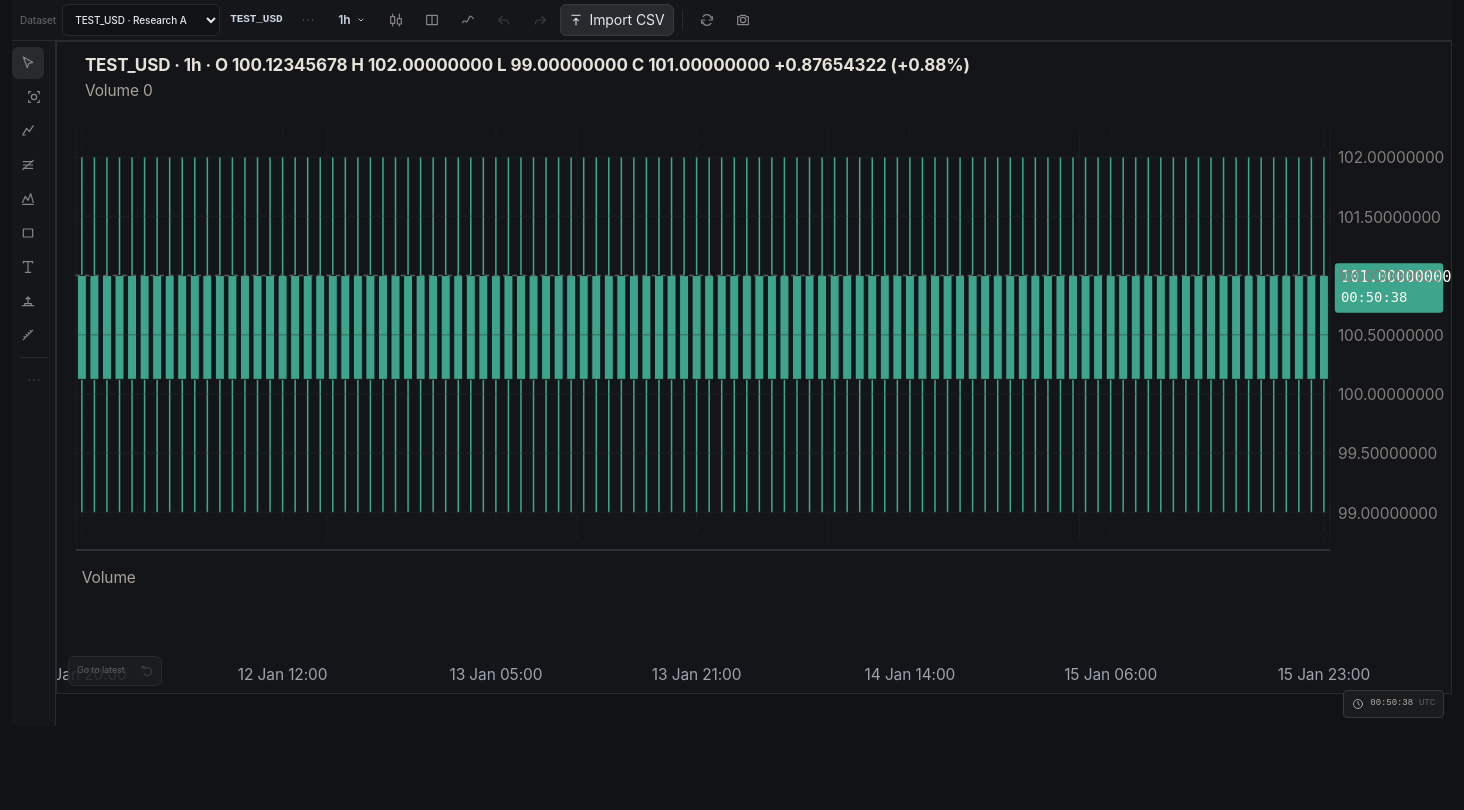
PB-006 private market UI (API contract mocks) › PB-031 switches only to compatible higher display intervals and honest chart types
This screenshot has width=1464, height=810.
Click the heading named "Timeframe": (352, 20) [338,12,367,27]
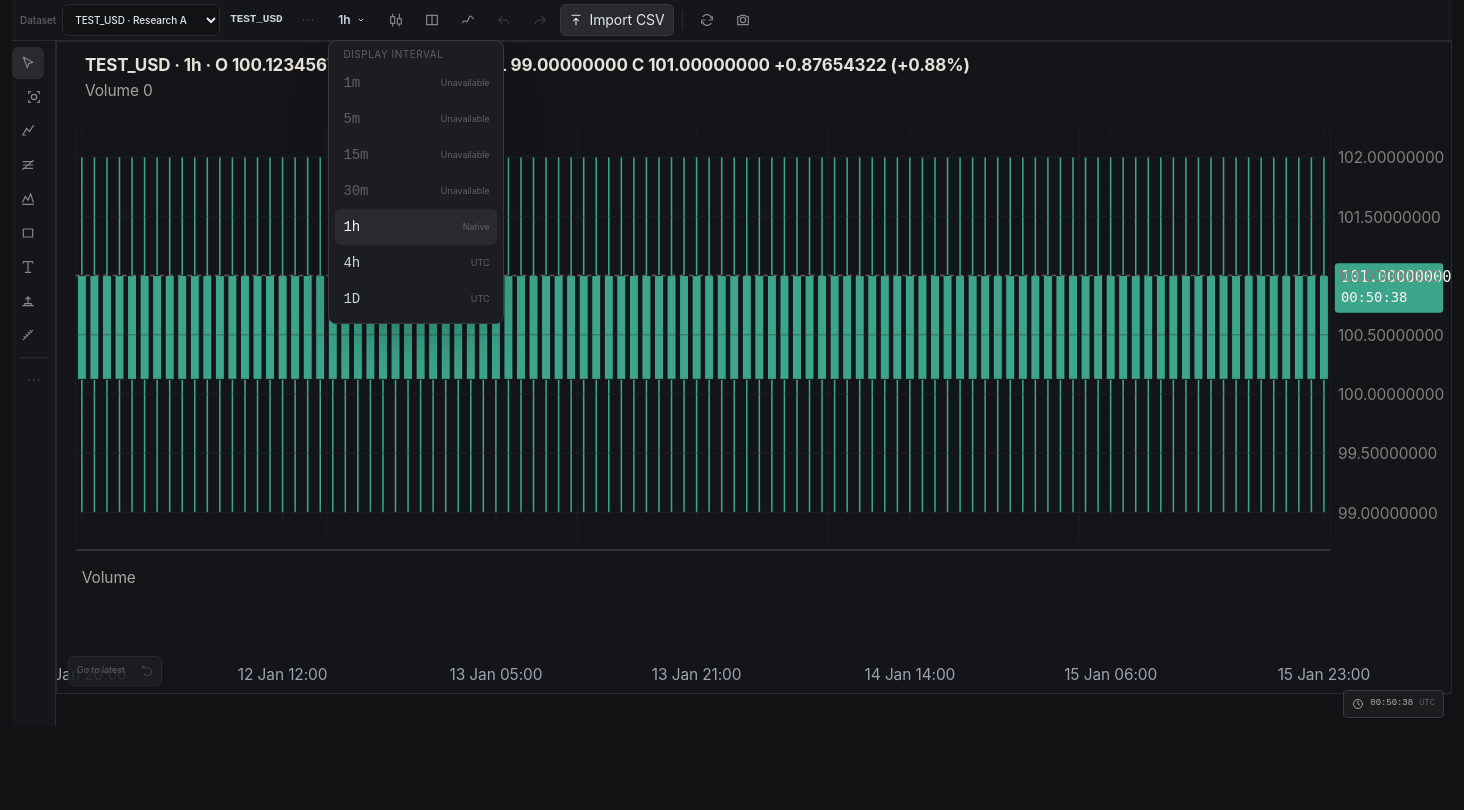
Now the button "15m Unavailable" is disabled, box [336,137,498,173]
Click the button "4h UTC": (416, 263) [336,245,498,281]
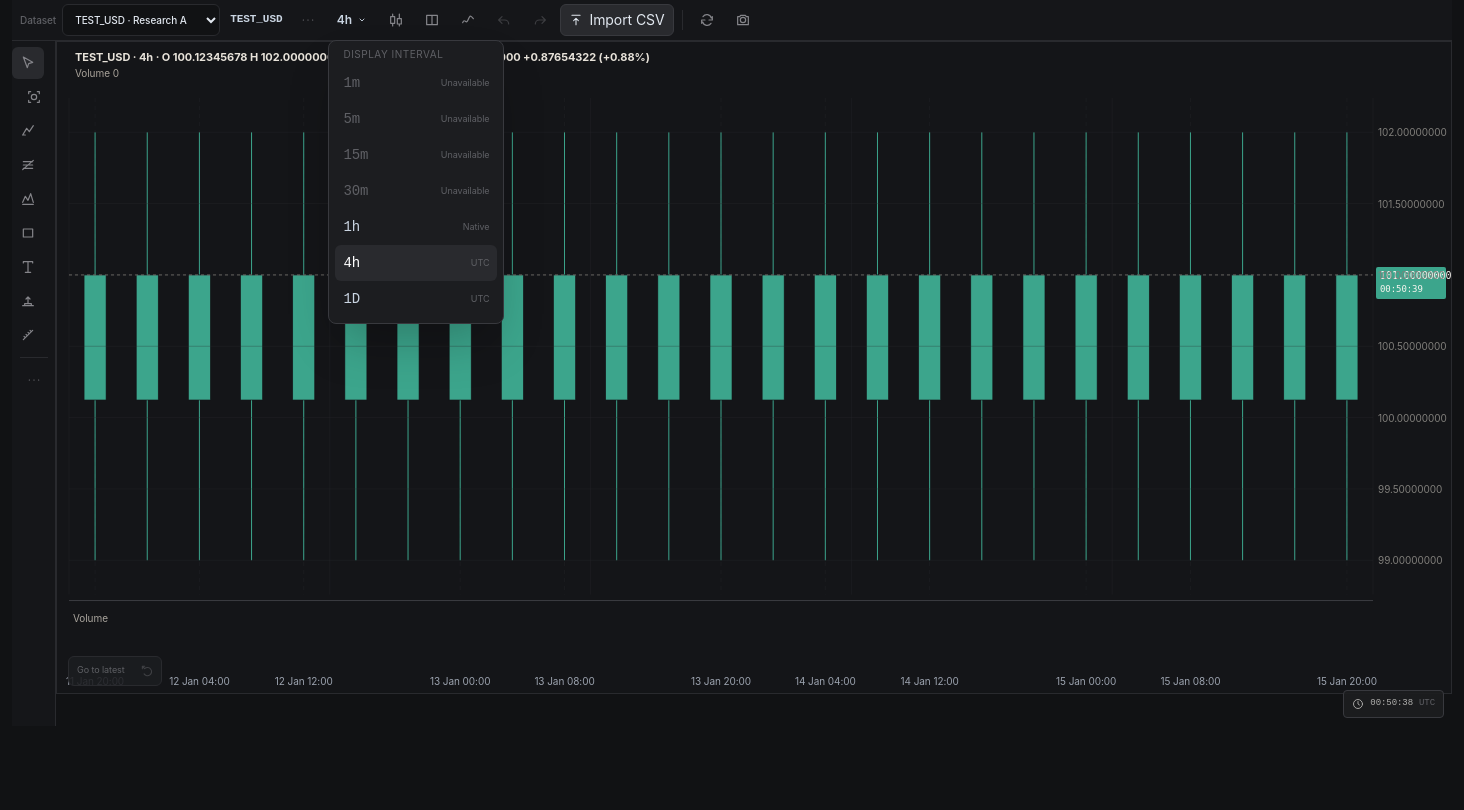
Now the picture named "25 candles in UTC" is shown
Click the heading named "Chart type": (396, 20) [388,12,404,28]
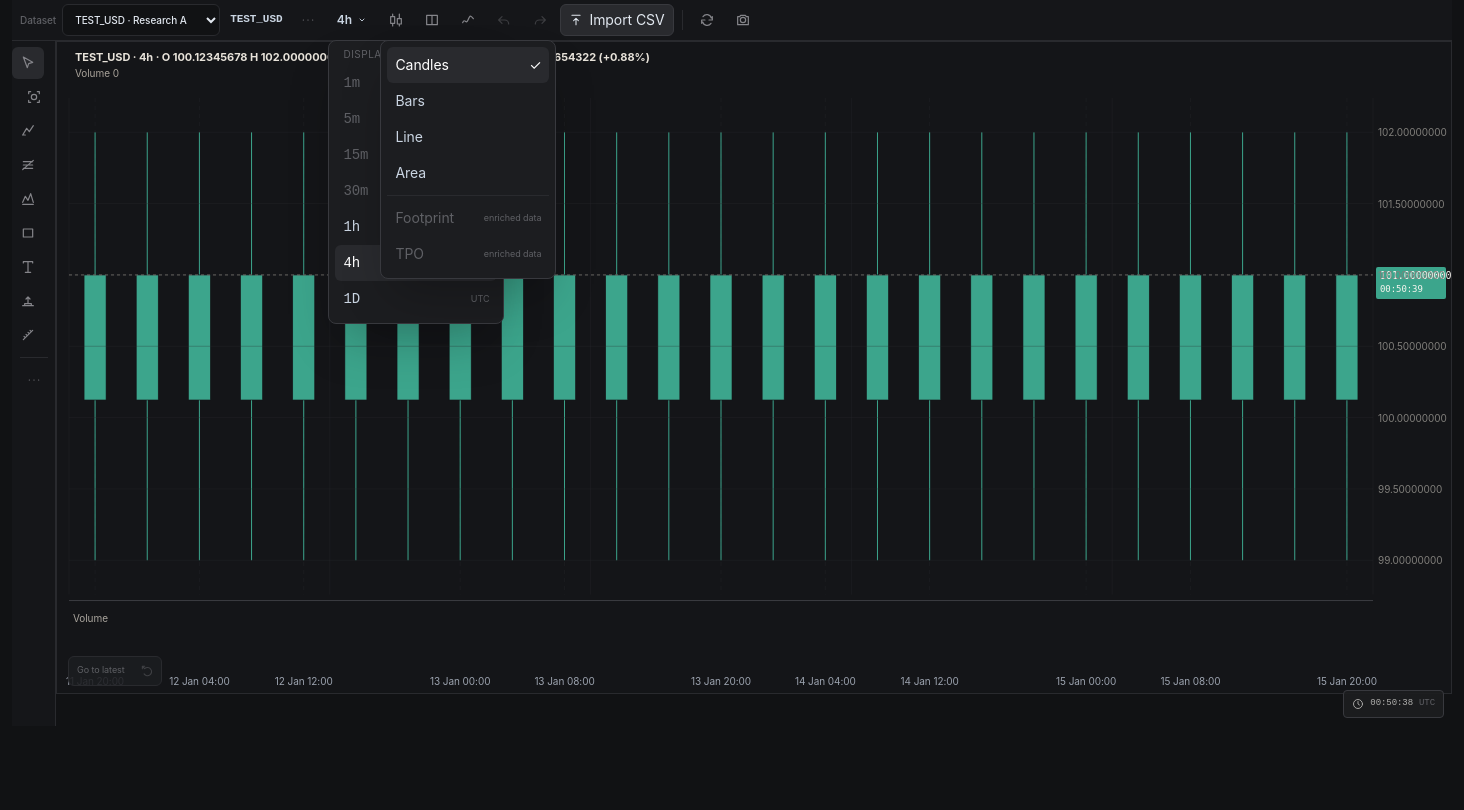
Click the button "Bars": (468, 101) [388,83,550,119]
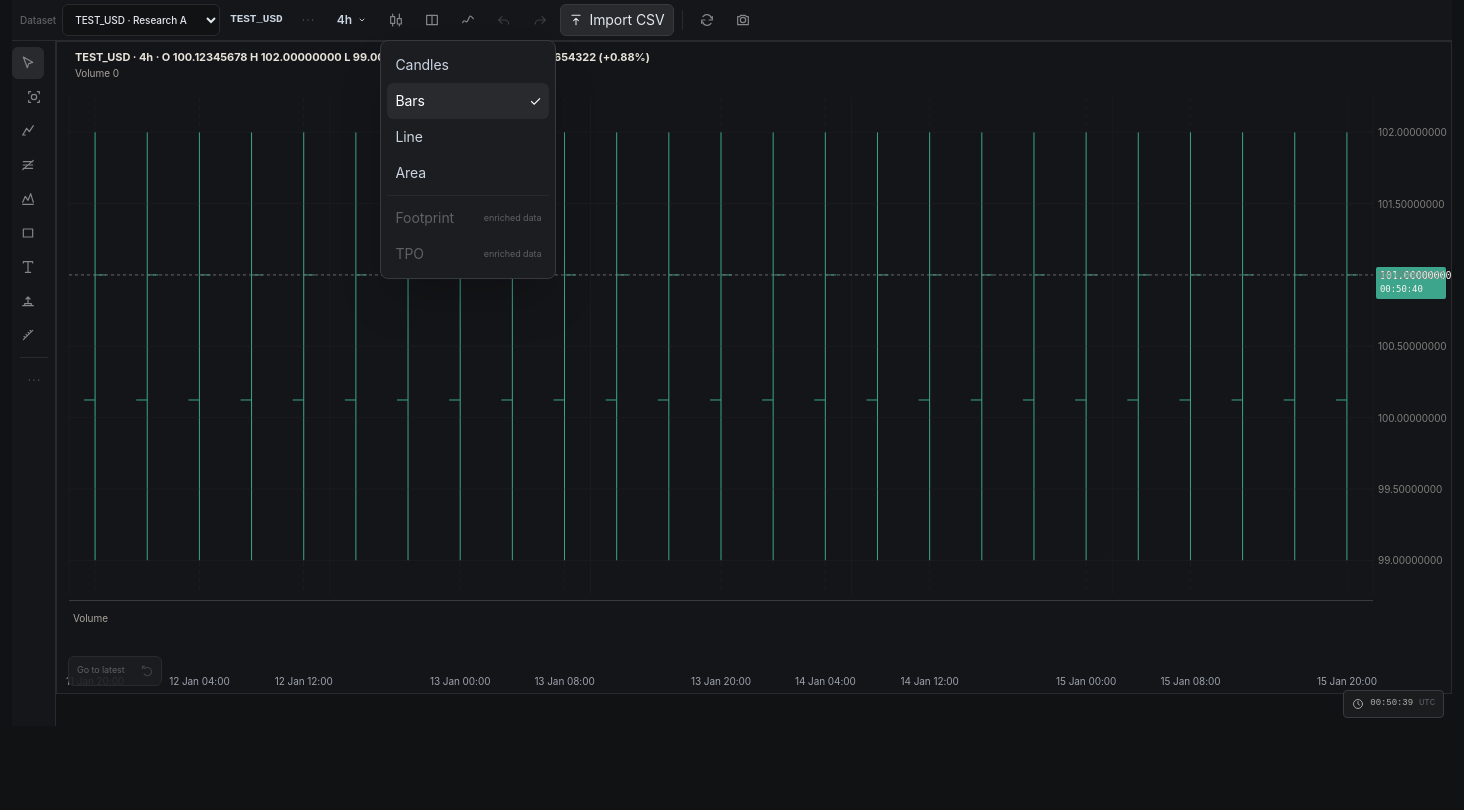
Now the button "Footprint enriched data" is disabled, box [388,200,550,236]
Now the picture named "imported bars" is shown
